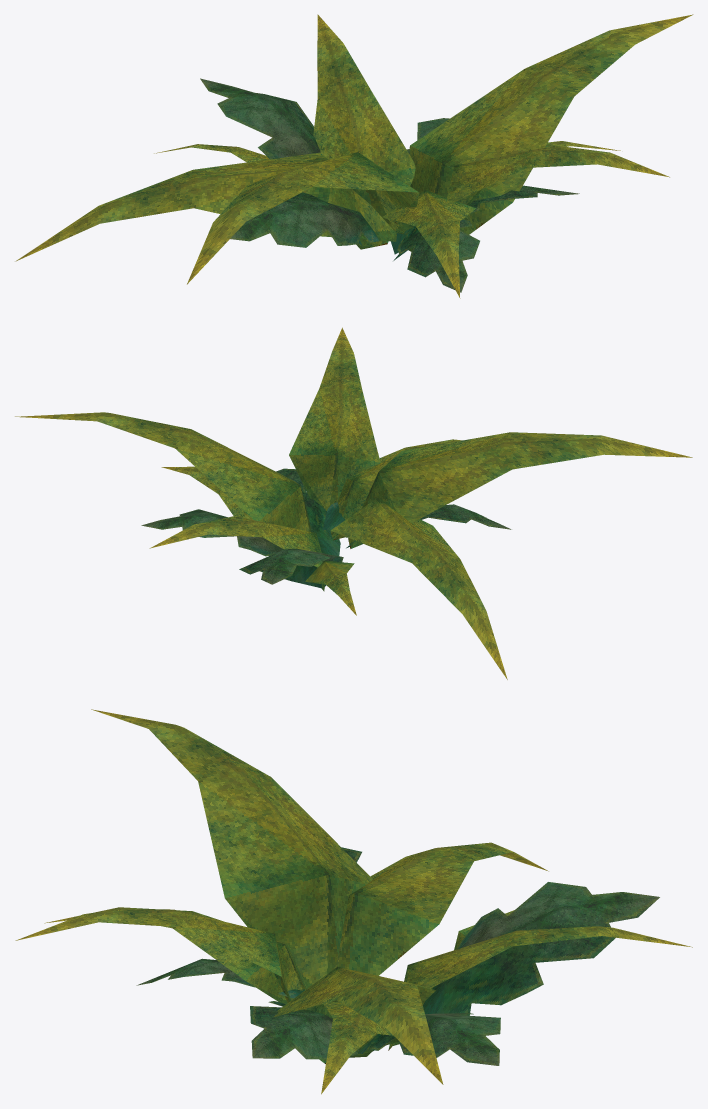
The model's file is grass_01.glb.
3 views of the same model, one above another, from view 1: azimuth 30°, elevation 25°; view 2: azimuth 150°, elevation 25°; view 3: azimuth 270°, elevation 25° (orthographic). The views are drawn at different scales.
Visible parts, largest first — view 1: GRASS_01-no-col; view 2: GRASS_01-no-col; view 3: GRASS_01-no-col.
Part boxes in pixels (bbox=[...]): GRASS_01-no-col: bbox=[15, 14, 693, 298]; GRASS_01-no-col: bbox=[15, 327, 692, 679]; GRASS_01-no-col: bbox=[15, 709, 692, 1094].
Bounding box in the file's own units: 3.11 × 0.7446 × 2.39.
1 material, 1 textured.
